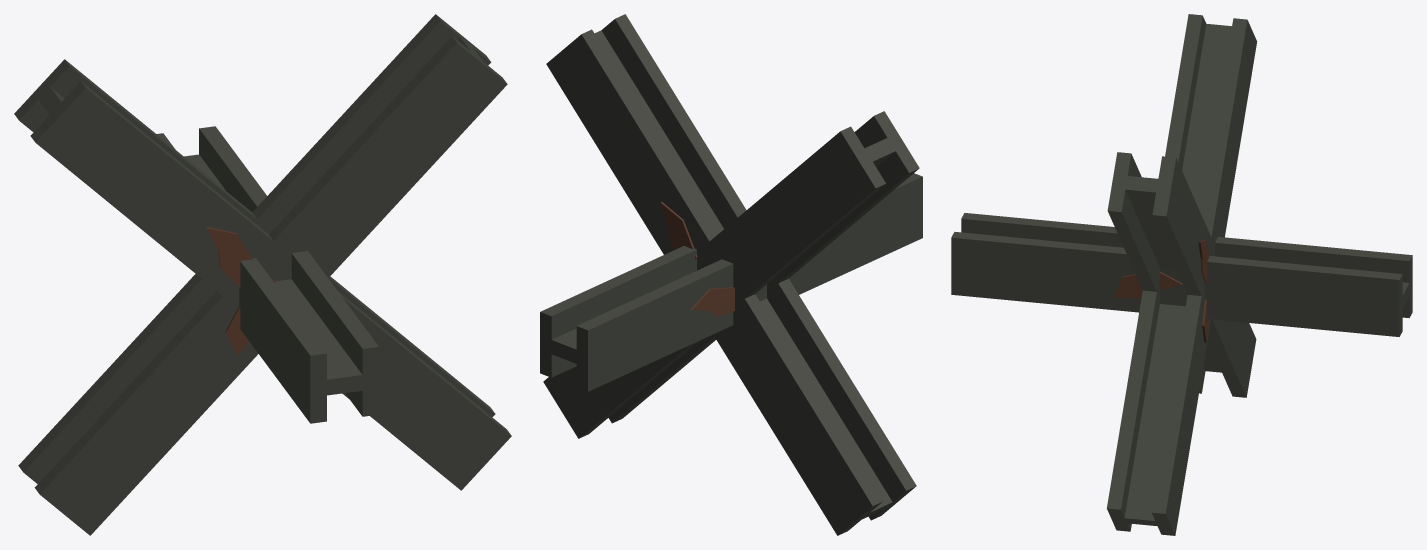
File: tank_trap_c.obj
The picture shows the model from 3 angles, left to right: view 1: azimuth 30°, elevation 25°; view 2: azimuth 150°, elevation 25°; view 3: azimuth 270°, elevation 25°; orthographic projection. The views are drawn at different scales.
Visible parts, largest first — view 1: tank_trap_c; view 2: tank_trap_c; view 3: tank_trap_c.
Boxes of the visible parts, x1,y1,x2,y2 form: tank_trap_c: (14,14,511,535); tank_trap_c: (540,14,922,535); tank_trap_c: (951,14,1412,535).
Bounding box in the file's own units: 1.61 × 1.6 × 1.76.
